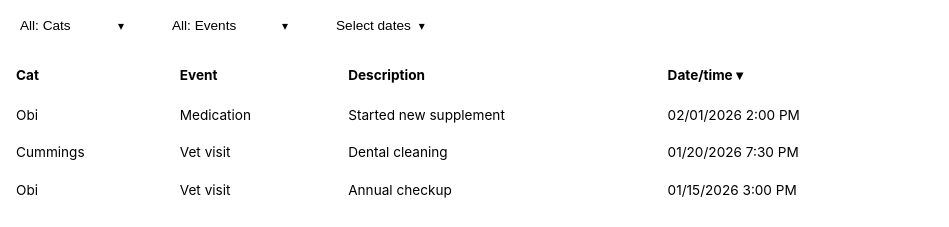
Test: EventLogDashboard sorting › timestamp column sorts chronologically
// Default is desc, click once for asc
Click the column heading with test id "sort-date".
click(705, 75)  # box left=656, top=56, right=932, bottom=97
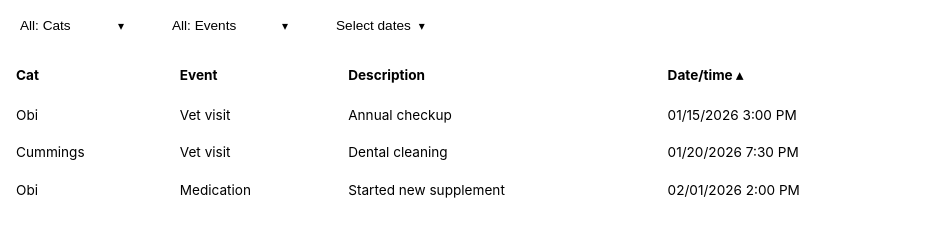
Result: the cell "01/15/2026 3:00 PM" is shown at left=656, top=97, right=932, bottom=134
Result: the cell "02/01/2026 2:00 PM" is shown at left=656, top=172, right=932, bottom=210
